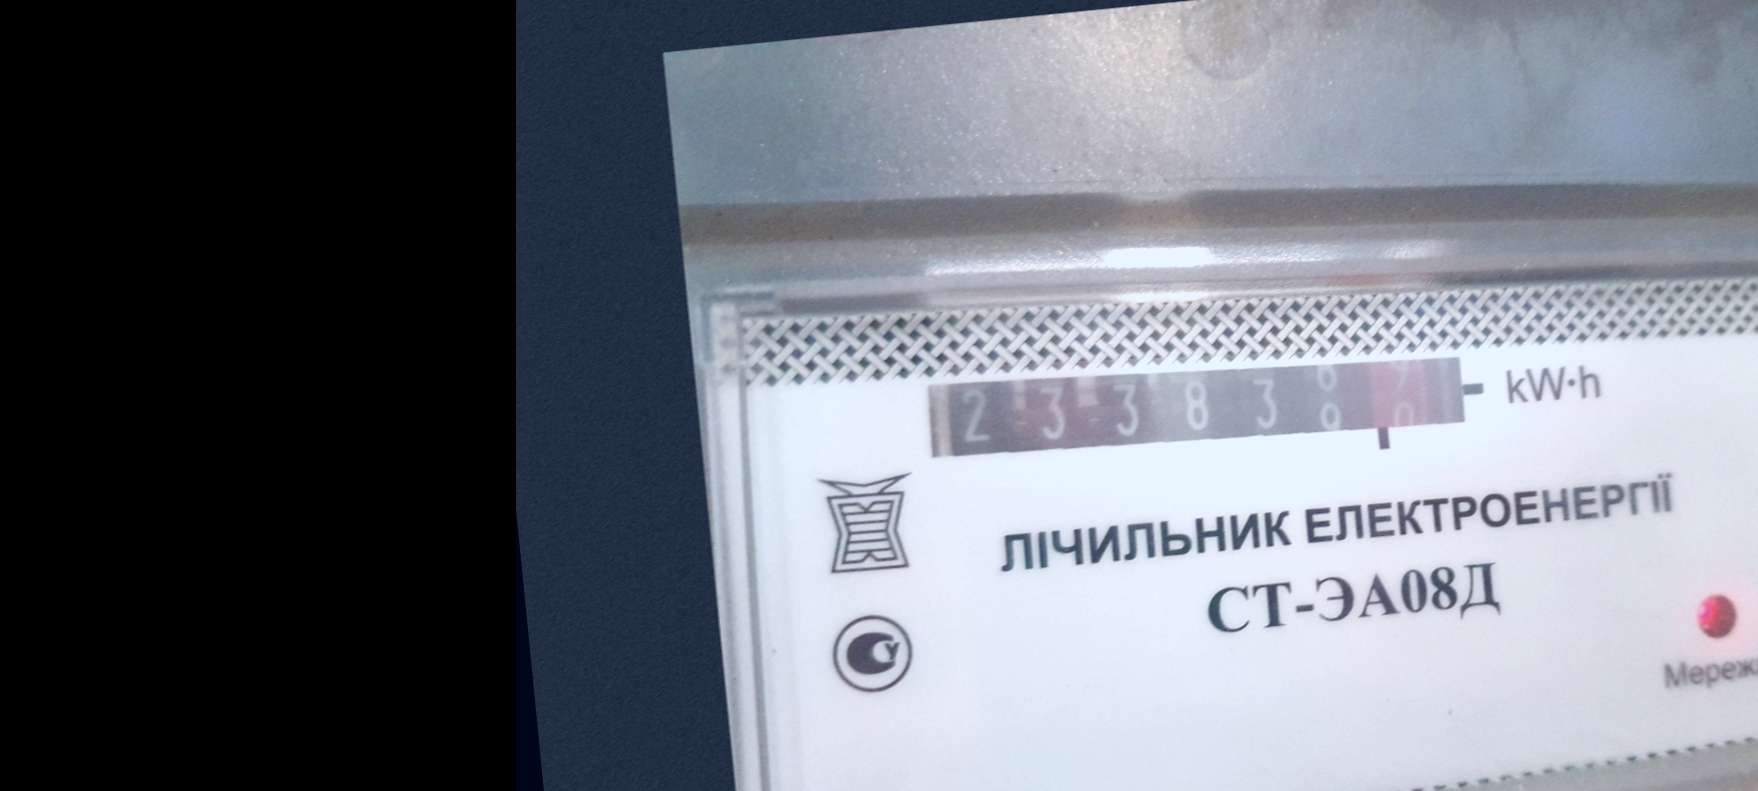0: (1390, 397, 1421, 432)
2: (955, 382, 999, 446)
3: (1105, 375, 1148, 443), (1037, 381, 1070, 443), (1250, 371, 1284, 430)
8: (1178, 372, 1216, 434), (1315, 359, 1344, 393)
9: (1384, 353, 1418, 394), (1317, 397, 1348, 435)
screen: (896, 307, 1501, 521)
